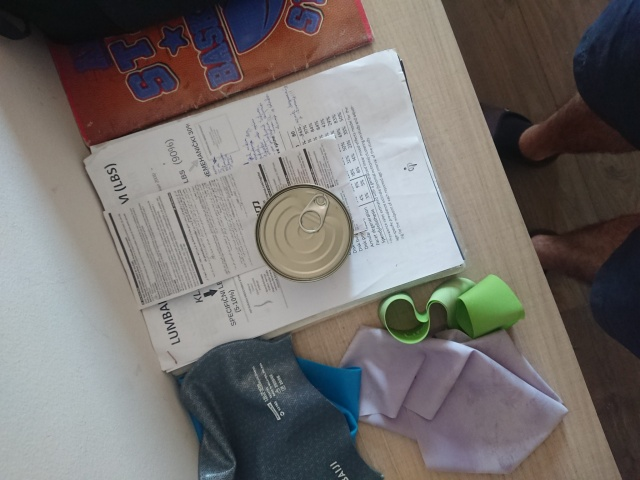Giana Tuna Salad Mexico 185g: (254, 182, 356, 285)
